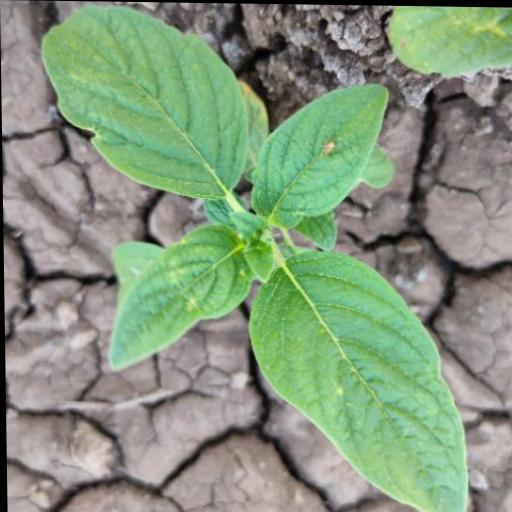crop: (31, 0, 486, 512)
